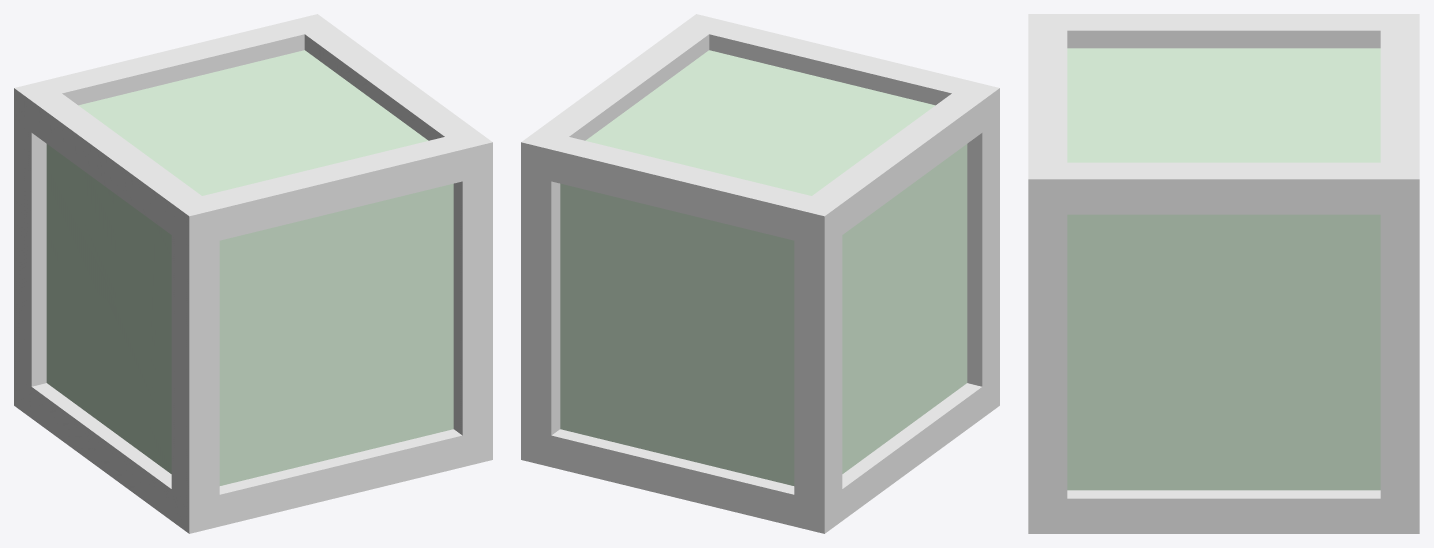
File: GlassBox.glb
The picture shows the model from 3 angles, left to right: view 1: azimuth 30°, elevation 25°; view 2: azimuth 150°, elevation 25°; view 3: azimuth 270°, elevation 25°; orthographic projection. The views are drawn at different scales.
Visible parts, largest first — view 1: GlassBox; view 2: GlassBox; view 3: GlassBox.
Part boxes in pixels (<box>): GlassBox: <box>14,14,492,533</box>; GlassBox: <box>521,14,999,533</box>; GlassBox: <box>1028,14,1419,533</box>.
Size of the model in its own units: 0.01 by 0.01 by 0.01.
